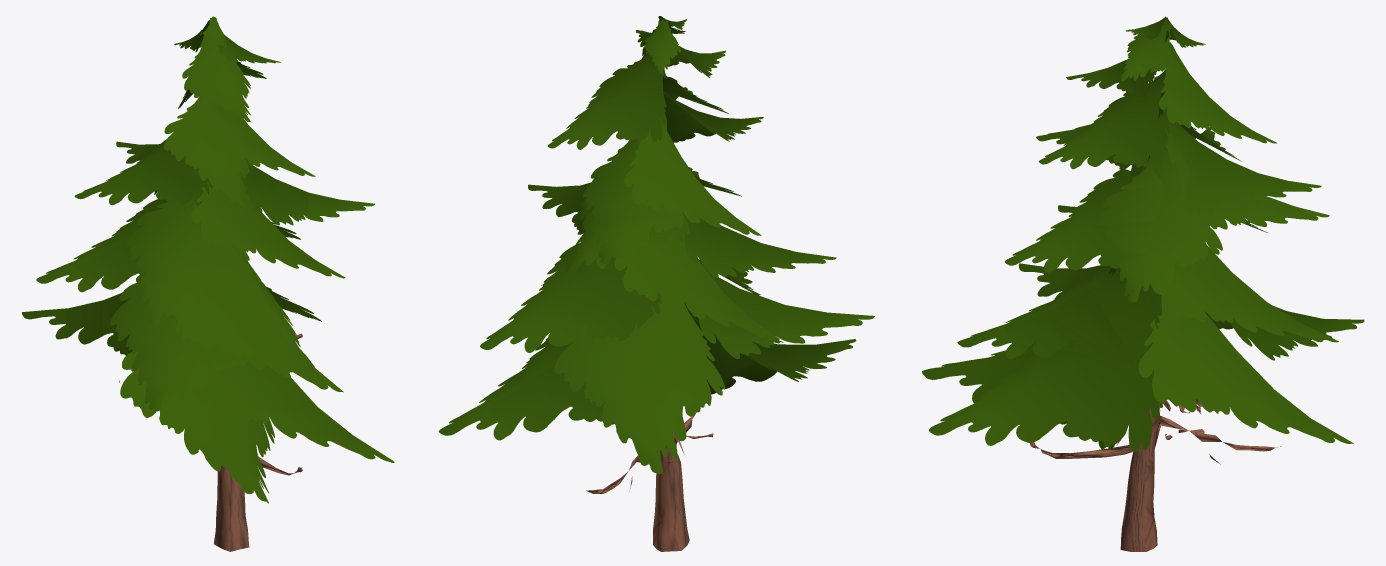
Rendered from Pine_2.gltf.
The picture shows the model from 3 angles, left to right: view 1: azimuth 30°, elevation 25°; view 2: azimuth 150°, elevation 25°; view 3: azimuth 270°, elevation 25°; orthographic projection. The views are drawn at different scales.
Parts seen in each view (by area): view 1: Pine_2; view 2: Pine_2; view 3: Pine_2.
Part boxes in pixels (x1,y1,x2,y2): Pine_2: [22, 16, 394, 551]; Pine_2: [438, 16, 874, 551]; Pine_2: [922, 16, 1364, 551].
Size of the model in its own units: 4.5 by 7.4 by 5.84.
2 materials, 2 textured.
